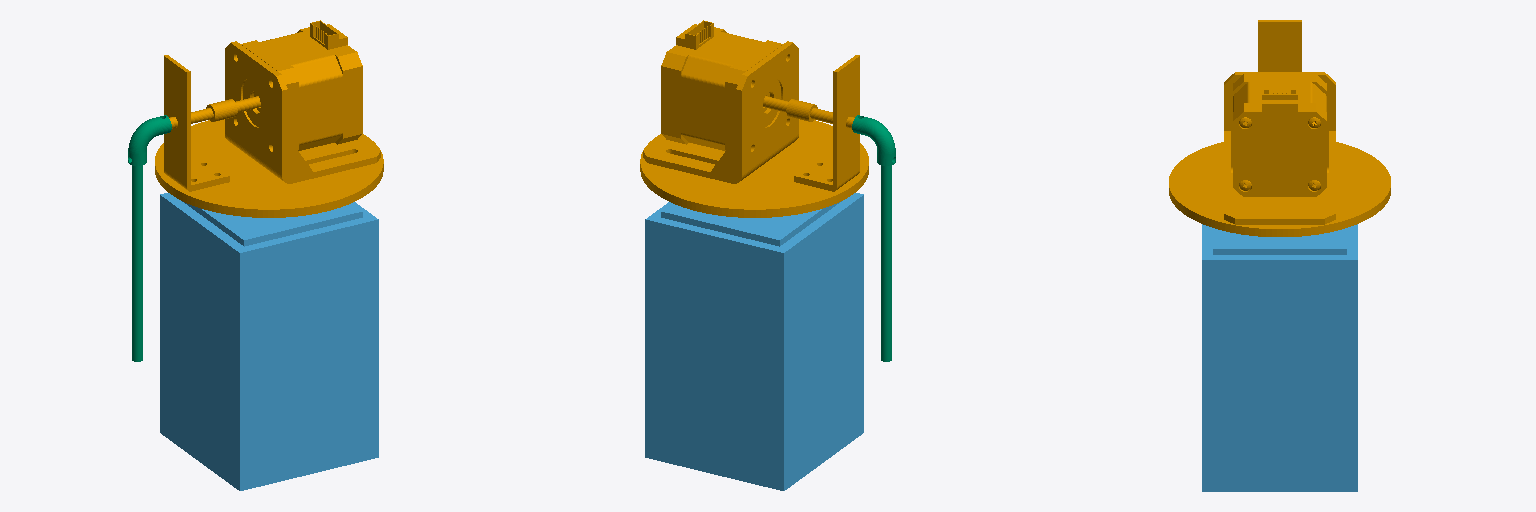
The robot description file, URDF, robot "robot":
<?xml version='1.0' encoding='utf-8'?>
<robot name="robot">
    <link name="disc">
        <inertial>
            <origin xyz="0.007668534346231335 -1.8805171185290753e-06 0.03776049660227763" rpy="0.0 -0.0 0.0" />
            <mass value="0.9393032348997049" />
            <inertia ixx="0.0005564364294889344" iyy="0.0006883057581110914" izz="0.0006413763359421145" ixy="-2.309070493190923e-08" iyz="-4.326287667606388e-08" ixz="-6.230644000451506e-05" />
        </inertial>
        <visual name="disc_visual">
            <origin xyz="7.267471740958731e-19 -2.220446049250313e-18 -0.1198693" rpy="0.0 -0.0 0.0" />
            <geometry>
                <mesh filename="meshes/disc.stl" scale="0.001 0.001 0.001" />
            </geometry>
        </visual>
        <collision name="disc_collision">
            <origin xyz="7.267471740958731e-19 -2.220446049250313e-18 -0.1198693" rpy="0.0 -0.0 0.0" />
            <geometry>
                <mesh filename="meshes/disc.stl" scale="0.001 0.001 0.001" />
            </geometry>
        </collision>
    </link>
    <link name="base_link">
        <inertial>
            <origin xyz="6.171755727700128e-05 -1.6072059530088367e-07 0.0631025698792516" rpy="0.0 0.0 0.0" />
            <mass value="1.67411359545379" />
            <inertia ixx="0.0027485039526724663" iyy="0.0027478860684484723" izz="0.001784527115398101" ixy="-2.315655587761894e-08" iyz="-1.6748510881927868e-07" ixz="3.7468013762829782e-06" />
        </inertial>
        <visual name="base_link_visual">
            <origin xyz="0.0 0.0 0.0" rpy="0.0 0.0 0.0" />
            <geometry>
                <mesh filename="meshes/base_link.stl" scale="0.001 0.001 0.001" />
            </geometry>
        </visual>
        <collision name="base_link_collision">
            <origin xyz="0.0 0.0 0.0" rpy="0.0 0.0 0.0" />
            <geometry>
                <mesh filename="meshes/base_link.stl" scale="0.001 0.001 0.001" />
            </geometry>
        </collision>
    </link>
    <link name="pendulum">
        <inertial>
            <origin xyz="-0.04117956921457129 2.5576754011798562e-08 0.005730913802140139" rpy="0.0 -0.0 0.0" />
            <mass value="0.023292673446883957" />
            <inertia ixx="3.2707190277641554e-07" iyy="2.9507926360256205e-05" izz="2.930404118574694e-05" ixy="-2.0742140454198727e-11" iyz="3.0471295891624952e-12" ixz="1.2008925150737307e-06" />
        </inertial>
        <visual name="pendulum_visual">
            <origin xyz="-0.1688693 -2.220446049250313e-18 -0.059500000000000004" rpy="-0.0 1.5707963267948966 0" />
            <geometry>
                <mesh filename="meshes/pendulum.stl" scale="0.001 0.001 0.001" />
            </geometry>
        </visual>
        <collision name="pendulum_collision">
            <origin xyz="-0.1688693 -2.220446049250313e-18 -0.059500000000000004" rpy="-0.0 1.5707963267948966 0" />
            <geometry>
                <mesh filename="meshes/pendulum.stl" scale="0.001 0.001 0.001" />
            </geometry>
        </collision>
    </link>
    <joint name="base_link_Revolute-2" type="revolute">
        <origin xyz="0.0 0.0 0.1178693" rpy="0.0 -0.0 0.0" />
        <parent link="base_link" />
        <child link="disc" />
        <axis xyz="0.0 0.0 1.0" />
    </joint>
    <joint name="disc_Revolute-3" type="continuous">
        <origin xyz="-0.059500000000000004 0.0 0.049" rpy="-0.0 -1.5707963267948966 0" />
        <parent link="disc" />
        <child link="pendulum" />
        <axis xyz="0.0 0.0 1.0" />
    </joint>
</robot>

--- Facts derived from the render (not from the file) ---
The picture shows the robot from 3 angles, left to right: view 1: azimuth 30°, elevation 25°; view 2: azimuth 150°, elevation 25°; view 3: azimuth 270°, elevation 25°; orthographic projection.
Model robot with 3 links and 2 joints (1 revolute, 1 continuous), rooted at base_link, posed every joint at zero.
Links seen in each view (by area): view 1: base_link, disc, pendulum; view 2: base_link, disc, pendulum; view 3: base_link, disc.
Boxes of the visible links, left/top/right/bottom form: base_link: left=160, top=193, right=378, bottom=490; disc: left=155, top=20, right=383, bottom=217; pendulum: left=128, top=115, right=171, bottom=361; base_link: left=645, top=193, right=863, bottom=490; disc: left=640, top=20, right=868, bottom=217; pendulum: left=852, top=115, right=895, bottom=361; base_link: left=1202, top=224, right=1357, bottom=491; disc: left=1169, top=20, right=1390, bottom=236.
Bounding box of the posed robot: 0.1205 × 0.1 × 0.1949 m (x, y, z).
Meshes: 3 distinct files referenced, 3 mesh visuals loaded (3 binary STL).
